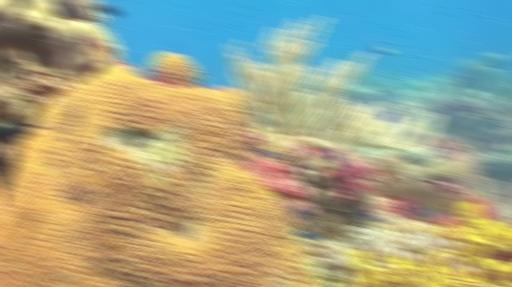Fish: (0, 114, 47, 142), (326, 148, 345, 172), (93, 4, 122, 16), (287, 203, 308, 219), (252, 147, 275, 159), (362, 209, 379, 223), (292, 231, 321, 239), (371, 45, 394, 55), (378, 112, 399, 122), (192, 69, 205, 78), (430, 209, 441, 219)
